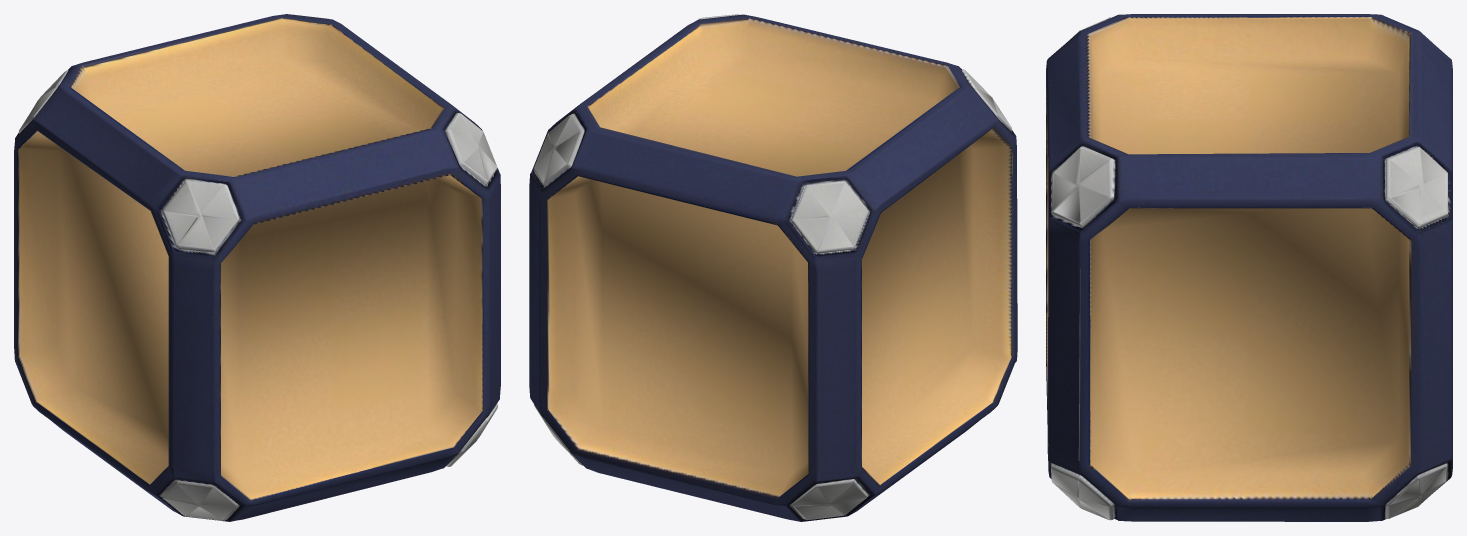
File: tripo_convert_9c140bab-fb49-426b-9135-94a071046705.fbx
3 views of the same model, side by side, from view 1: azimuth 30°, elevation 25°; view 2: azimuth 150°, elevation 25°; view 3: azimuth 270°, elevation 25° (orthographic). The views are drawn at different scales.
Visible parts, largest first — view 1: tripo_node_9c140bab; view 2: tripo_node_9c140bab; view 3: tripo_node_9c140bab.
Boxes of the visible parts, left/top/right/bottom form: tripo_node_9c140bab: left=14, top=14, right=500, bottom=521; tripo_node_9c140bab: left=529, top=14, right=1017, bottom=521; tripo_node_9c140bab: left=1046, top=14, right=1452, bottom=521.
Size of the model in its own units: 0.998 by 0.9902 by 0.998.
1 material, 1 textured.
